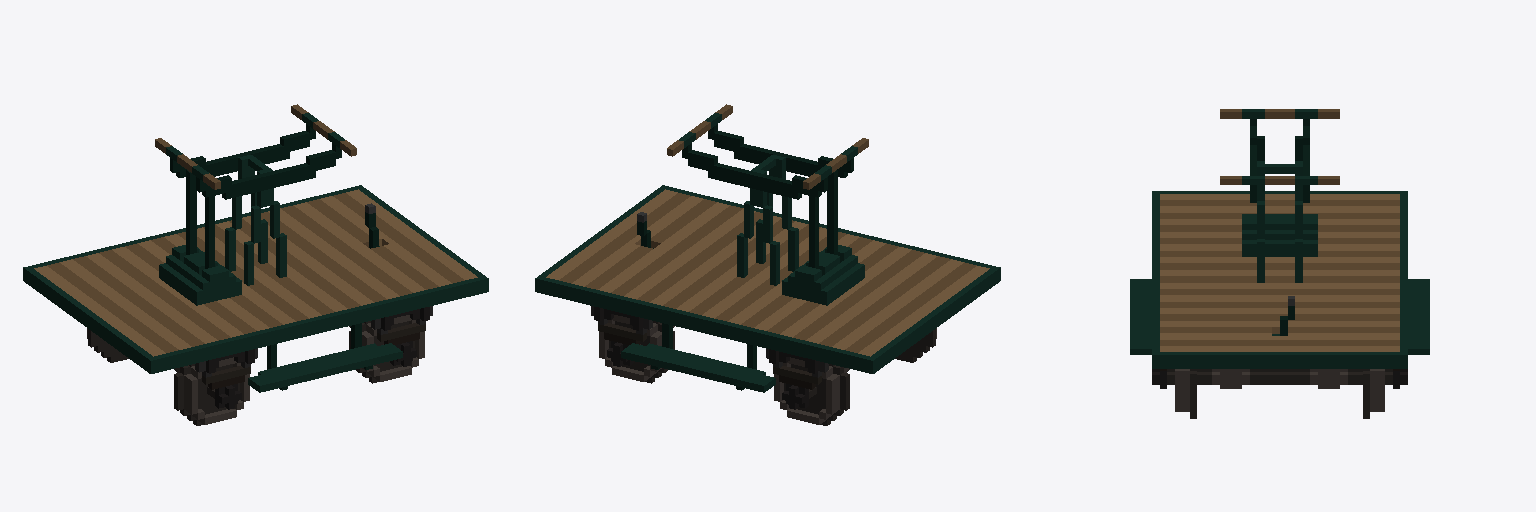
The picture shows the model from 3 angles: view 1: azimuth 30°, elevation 25°; view 2: azimuth 150°, elevation 25°; view 3: azimuth 270°, elevation 25°; orthographic projection.
Parts seen in each view (by area): view 1: FRAME, FRAME_WHEEL_1, FRAME_WHEEL_2; view 2: FRAME, FRAME_WHEEL_1, FRAME_WHEEL_2; view 3: FRAME, FRAME_WHEEL_2.
Part boxes in pixels (x1,y1,x2,y2): FRAME: (23,104,488,409); FRAME_WHEEL_1: (87,328,249,425); FRAME_WHEEL_2: (349,315,424,383); FRAME: (535,104,1000,409); FRAME_WHEEL_1: (774,328,936,425); FRAME_WHEEL_2: (599,315,674,383); FRAME: (1130,109,1429,388); FRAME_WHEEL_2: (1167,369,1392,418).
Size of the model in its own units: 3.25 by 2.06 by 2.5.
Materials: 1 (1 with a texture image).